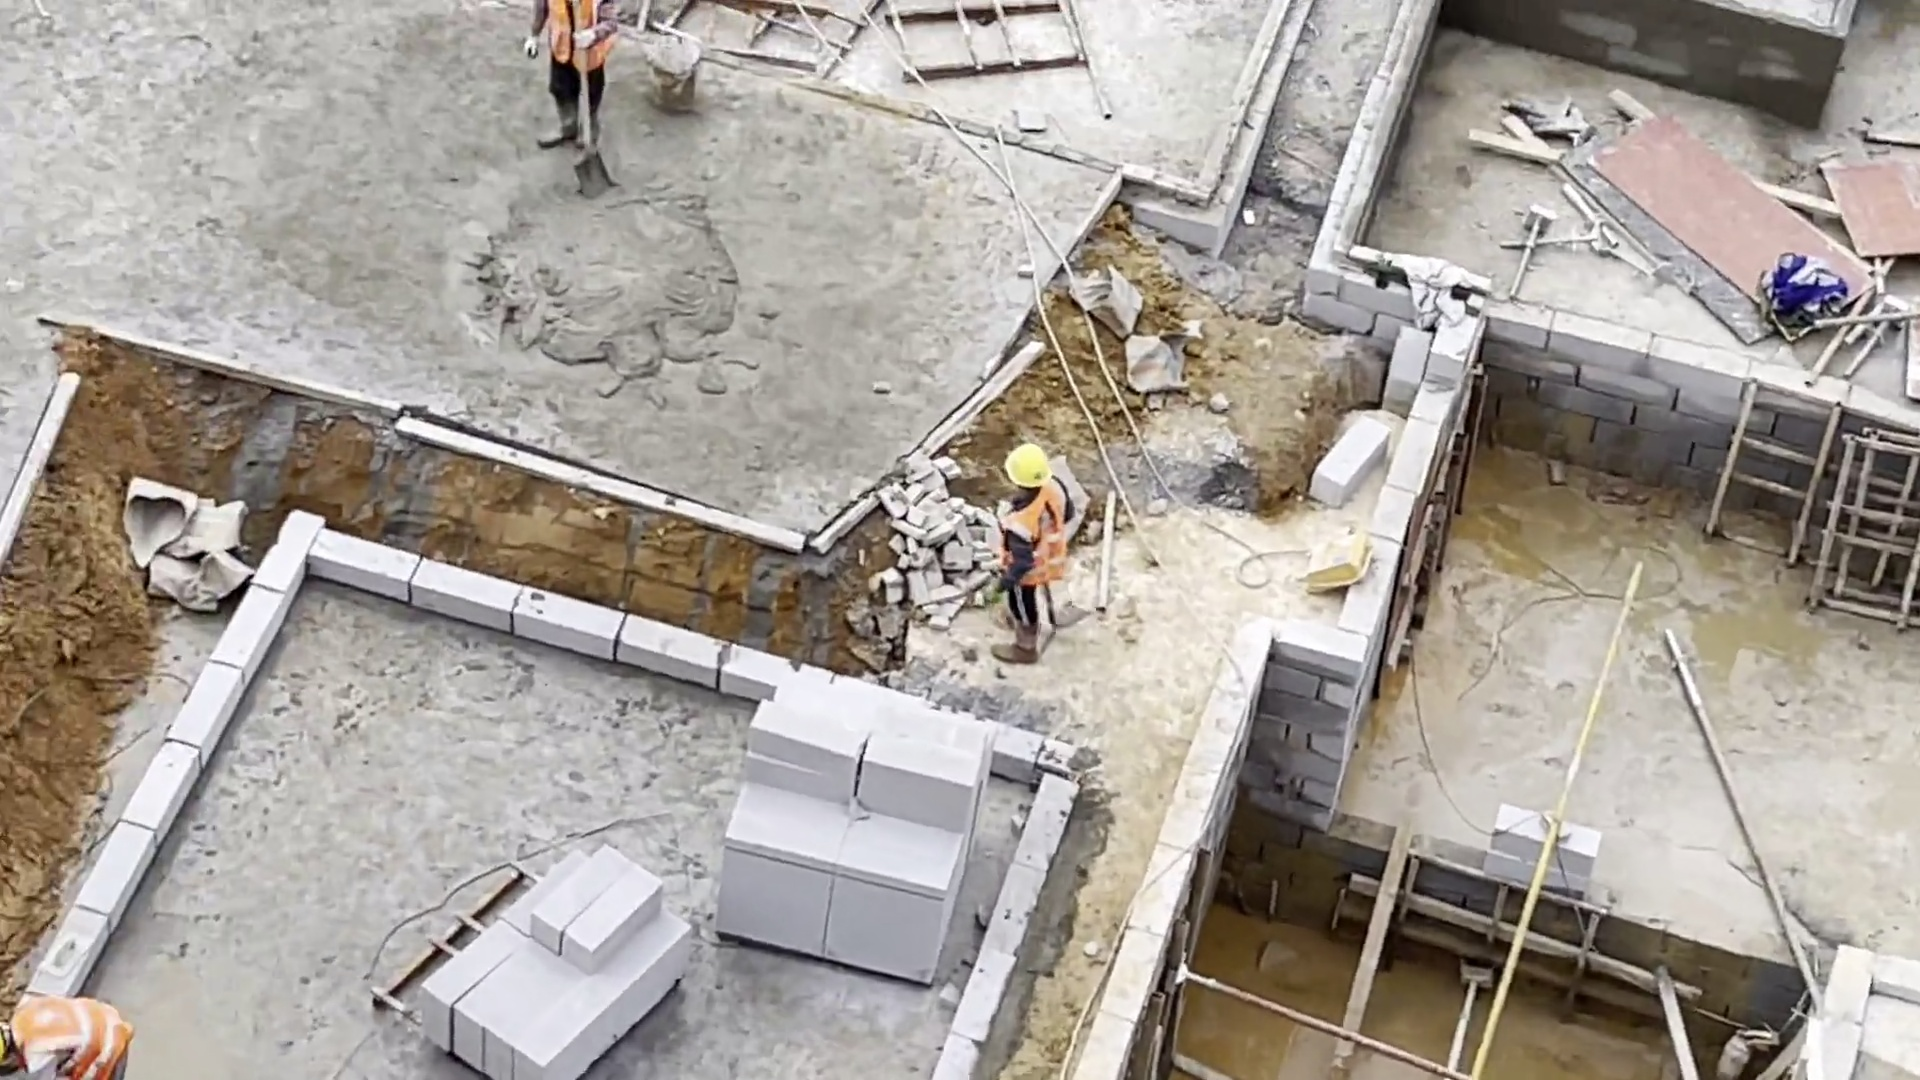brick: (713, 672, 997, 983), (415, 841, 678, 1080)
helmet: (1004, 441, 1054, 492)
person: (989, 436, 1084, 668), (527, 1, 613, 146)
vest: (1011, 490, 1075, 588), (547, 1, 615, 70)
